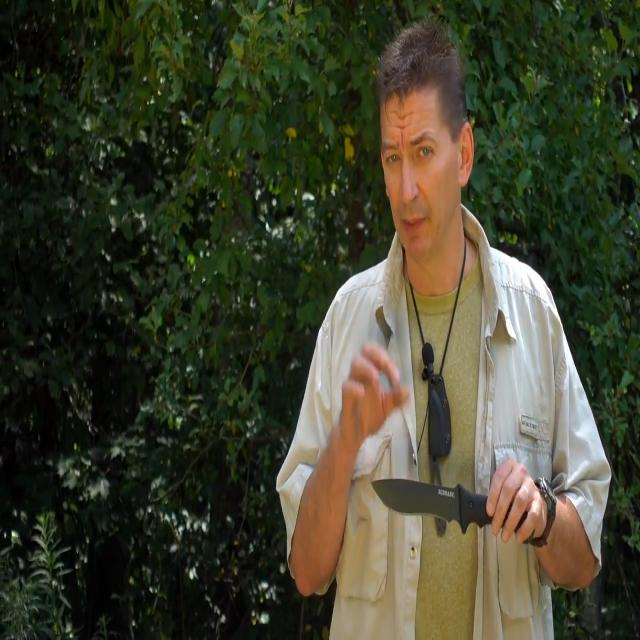knife: (371, 477, 489, 535)
